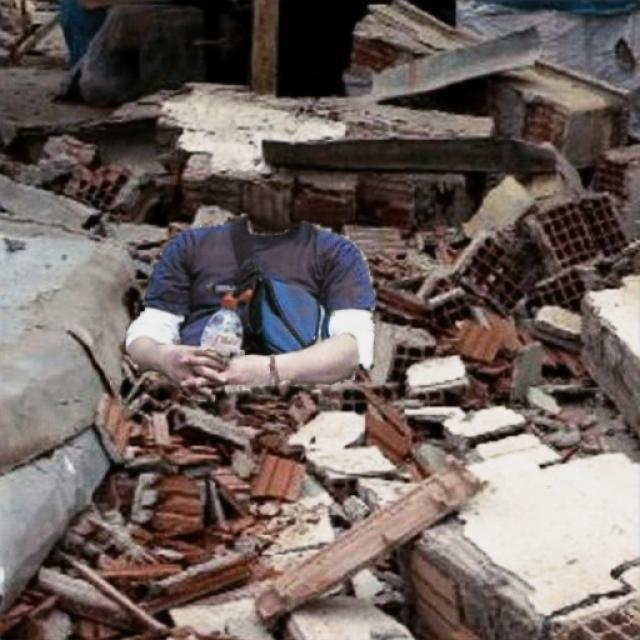Person in Rubble: (126, 214, 375, 402)
